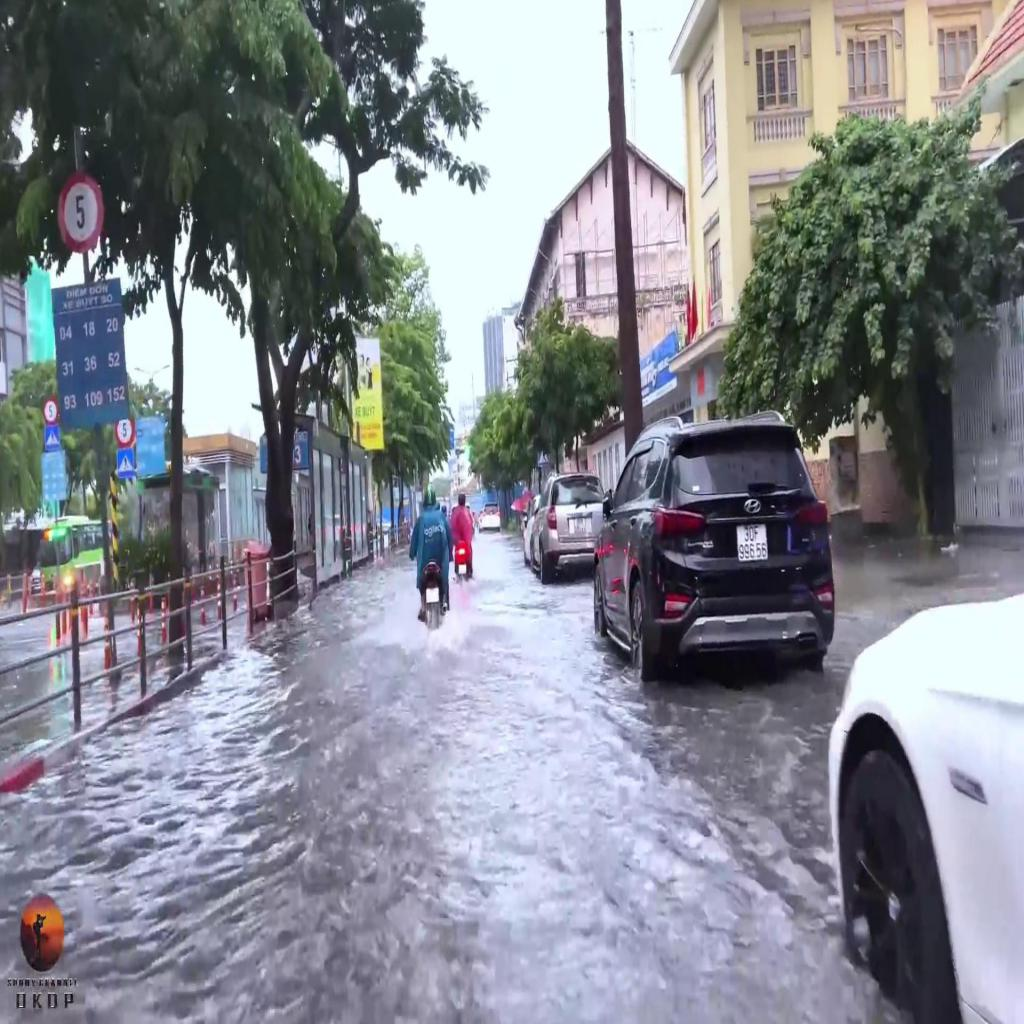duong_nguoi_di_bo_sang_ngang: (117, 448, 135, 478), (45, 425, 60, 451)
khac: (50, 277, 130, 431), (40, 448, 68, 502), (114, 418, 135, 447), (41, 395, 59, 425)
object: (55, 172, 105, 258)
